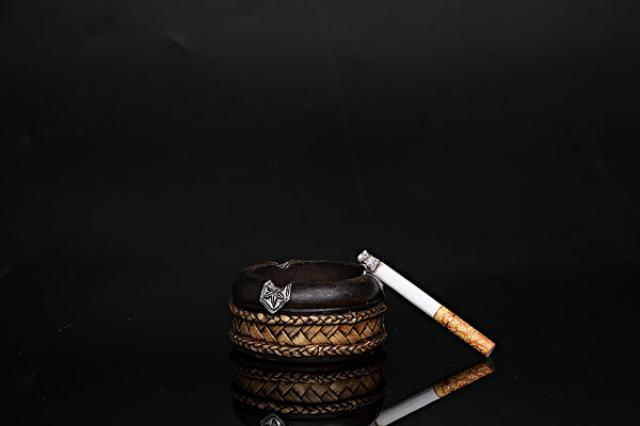Smoking: (358, 250, 496, 356), (369, 363, 493, 426)
